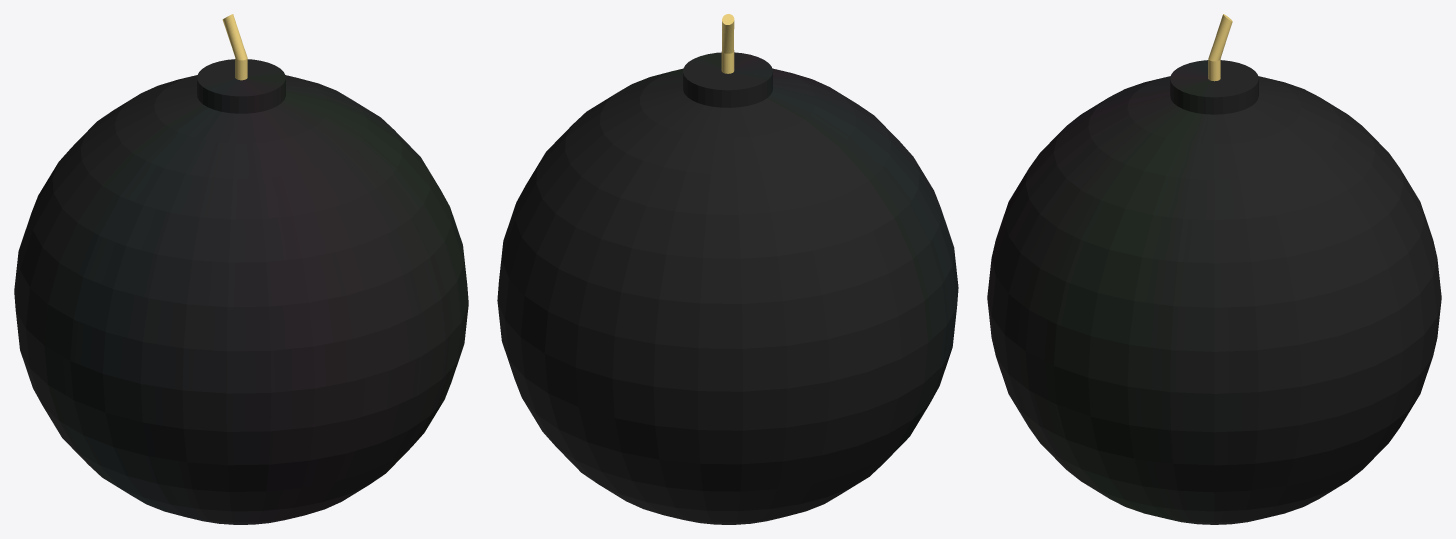
File: Bomb.fbx
3 renders of one model, left to right at view 1: azimuth 30°, elevation 25°; view 2: azimuth 150°, elevation 25°; view 3: azimuth 270°, elevation 25°, orthographic.
Parts seen in each view (by area): view 1: Sphere, Sphere.001; view 2: Sphere, Sphere.001; view 3: Sphere, Sphere.001.
Part boxes in pixels (box(x1,y1,x2,y2)): Sphere: box(14, 75, 468, 524); Sphere.001: box(197, 14, 285, 113); Sphere: box(497, 68, 958, 524); Sphere.001: box(683, 14, 772, 107); Sphere: box(987, 76, 1441, 524); Sphere.001: box(1170, 14, 1258, 114).
Bounding box in the file's own units: 200 × 236 × 200.
